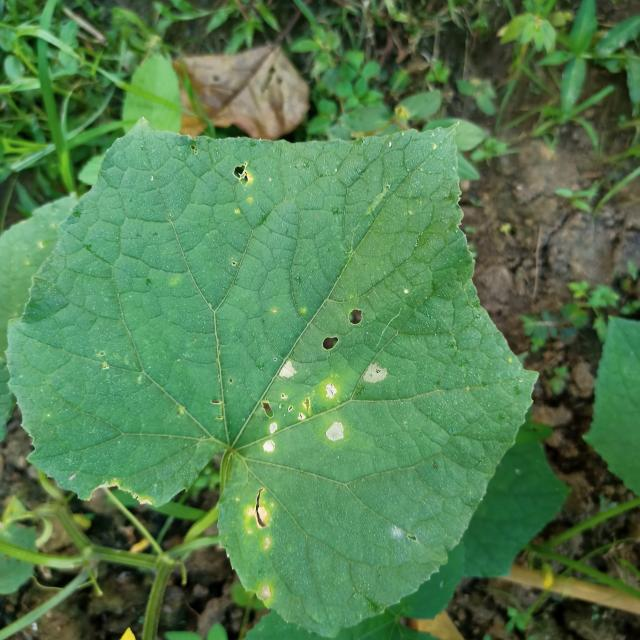disease_cucumber: (240, 344, 395, 462)
